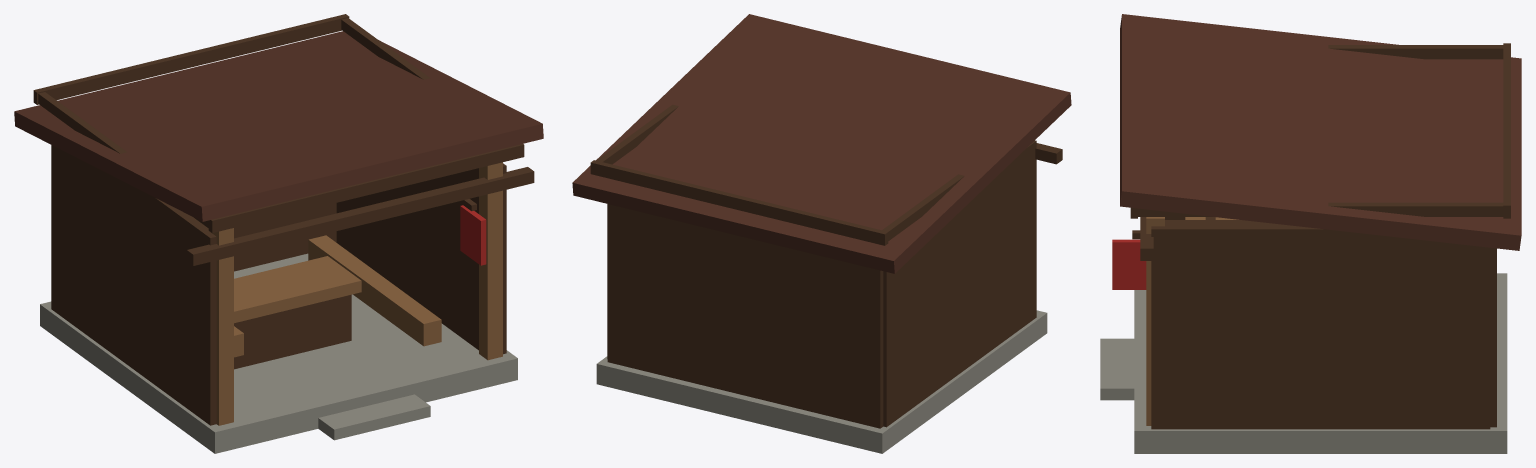
File: carpenter.glb
3 renders of one model, left to right at view 1: azimuth 30°, elevation 25°; view 2: azimuth 150°, elevation 25°; view 3: azimuth 270°, elevation 25°, orthographic. The views are drawn at different scales.
Parts seen in each view (by area): view 1: carpenter; view 2: carpenter; view 3: carpenter.
Boxes of the visible parts, x1,y1,x2,y2 form: carpenter: (14,14,543,453); carpenter: (572,14,1071,453); carpenter: (1100,14,1521,453).
Bounding box in the file's own units: 4.95 × 3.55 × 4.97.
